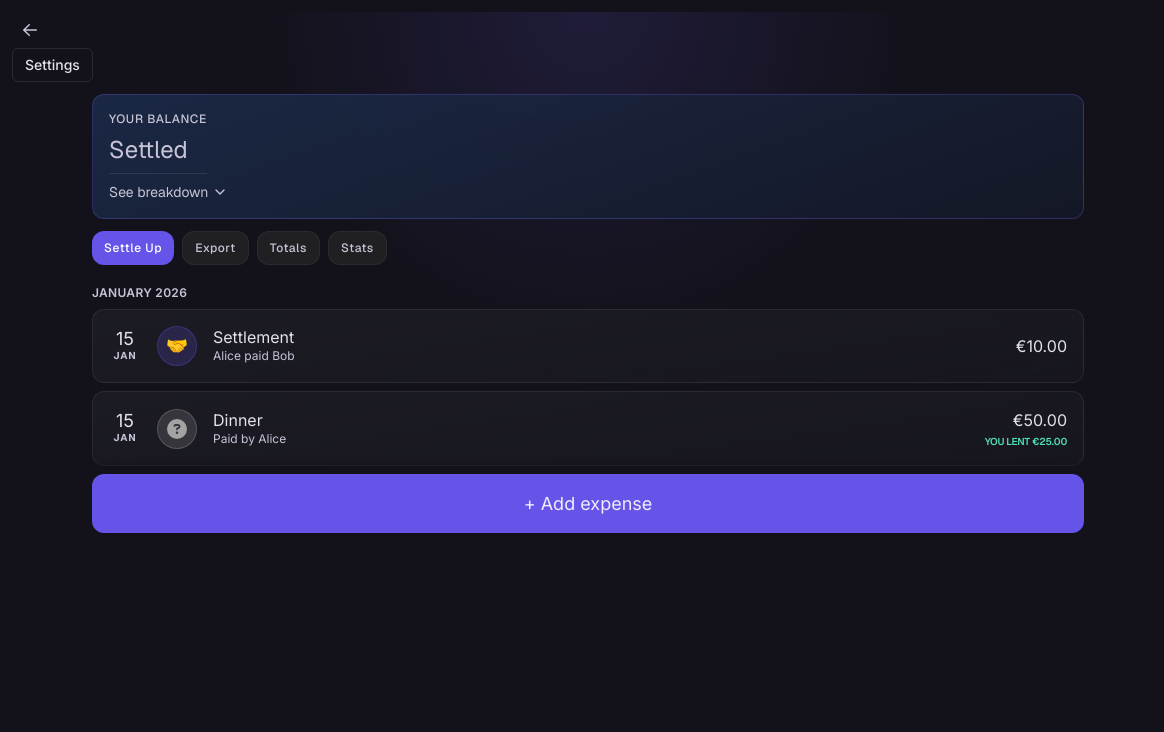
Test: GroupDetailView › toggles the per-user breakdown when "See breakdown" is clicked
The width and height of the screenshot is (1164, 732).
Click the button "See breakdown" at coordinates (169, 192), box top-left (109, 182), bottom-right (228, 202)
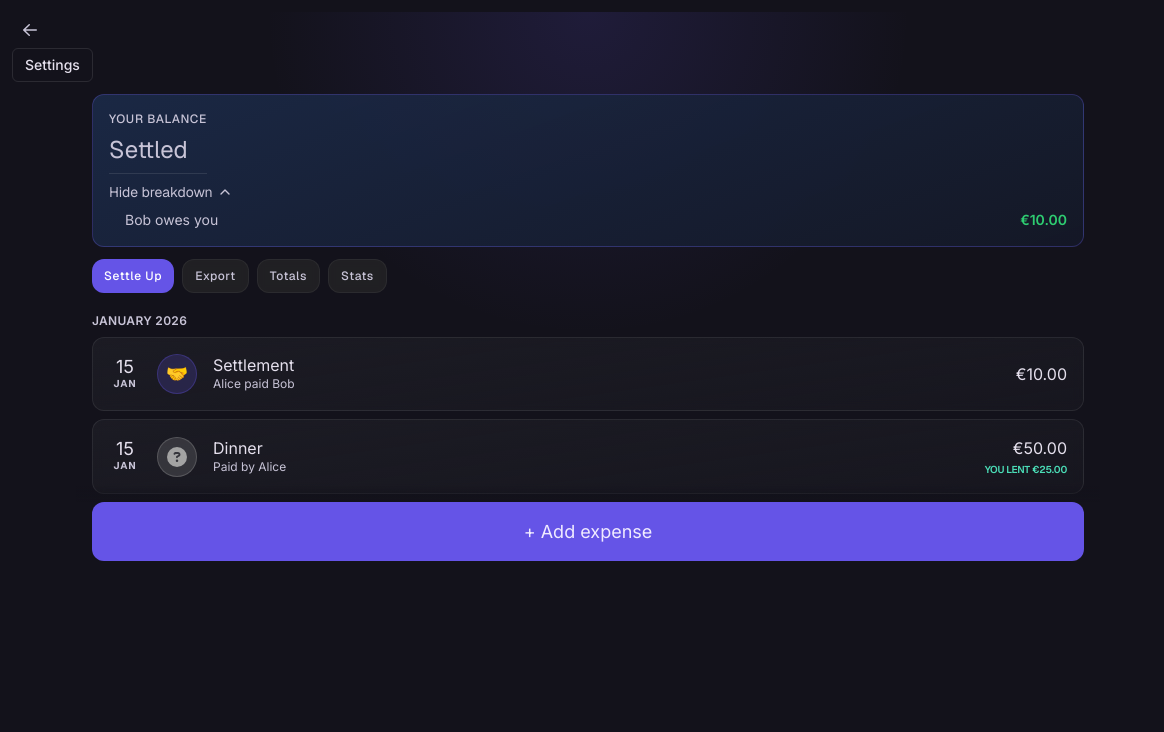
Now the text "Hide breakdown" is shown
Click the button "Hide breakdown" at coordinates (171, 192), box top-left (109, 182), bottom-right (233, 202)
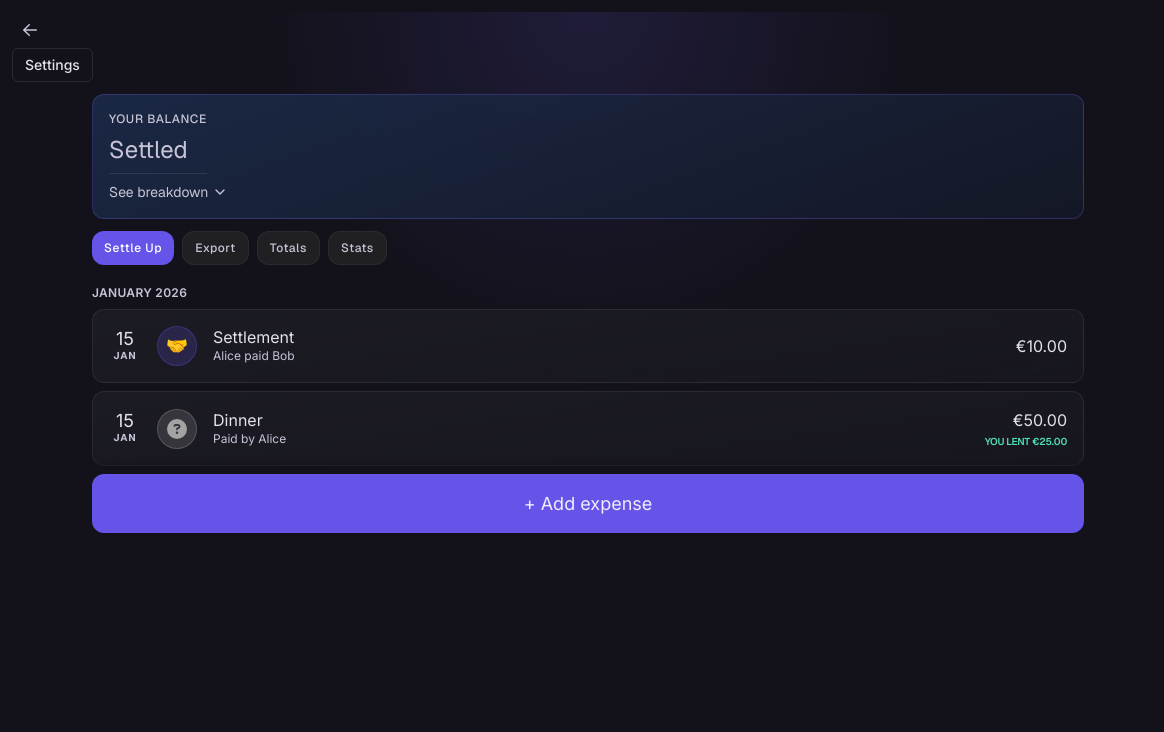
Now the text "See breakdown" is shown, box top-left (109, 182), bottom-right (228, 202)
